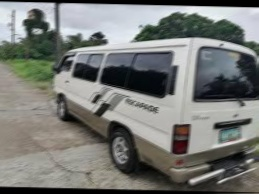van: (49, 30, 259, 187)
